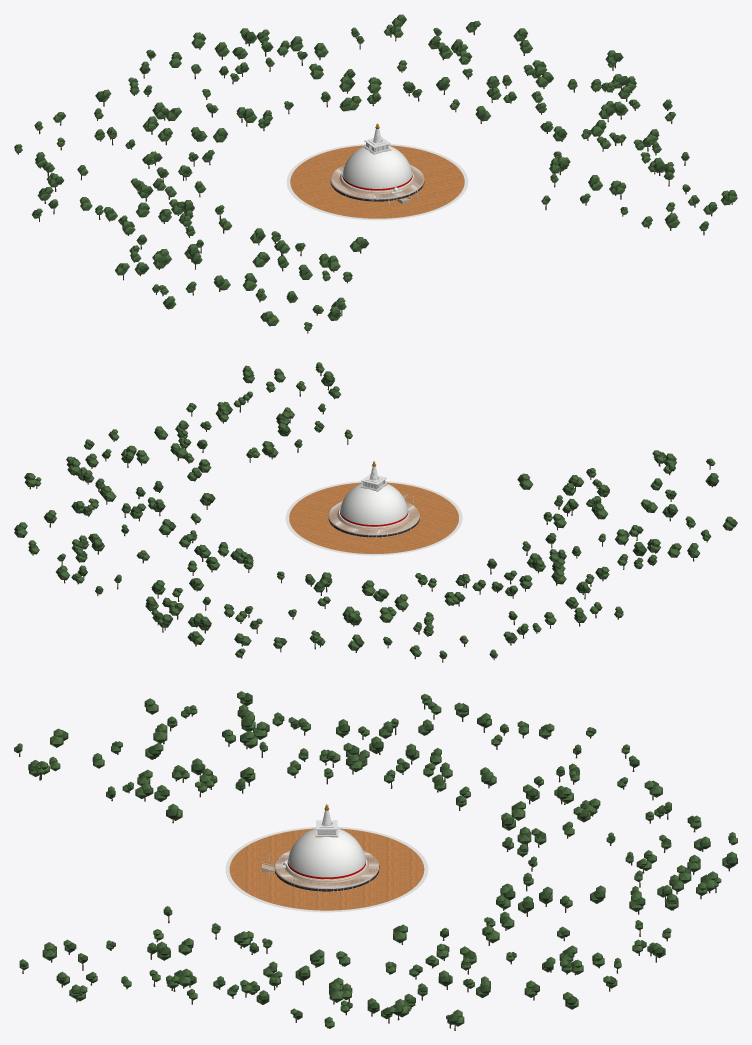
File: ruwanwelisaya.glb
3 views of the same model, one above another, from view 1: azimuth 30°, elevation 25°; view 2: azimuth 150°, elevation 25°; view 3: azimuth 270°, elevation 25° (orthographic). The views are drawn at different scales.
Parts seen in each view (by area): view 1: part_15, part_16, sand, dome, plasterWhite, stone, part_14; view 2: part_15, part_16, sand, dome, plasterWhite, stone, part_14; view 3: part_15, part_16, sand, dome, plasterWhite, stone, part_14, plaster.
Boxes of the visible parts, x1,y1,x2,y2 form: part_15: (14, 14, 737, 330); part_16: (14, 16, 737, 326); sand: (290, 145, 464, 218); dome: (342, 145, 412, 188); plasterWhite: (286, 143, 468, 220); stone: (330, 146, 424, 204); part_14: (17, 31, 732, 333); part_15: (14, 362, 733, 658); part_16: (14, 365, 737, 657); sand: (289, 482, 458, 553); dome: (340, 483, 407, 524); plasterWhite: (285, 480, 462, 555); stone: (328, 483, 419, 534); part_14: (29, 372, 730, 662); part_15: (14, 691, 737, 1028); part_16: (15, 692, 737, 1024); sand: (229, 828, 424, 910); dome: (288, 828, 365, 877); plasterWhite: (225, 827, 428, 912); stone: (261, 827, 378, 888); part_14: (19, 704, 732, 1030); plaster: (275, 820, 378, 891).
Size of what is drawn, in the model's own units: 859 by 81.98 by 803.
Materials: 13 (10 with a texture image).
